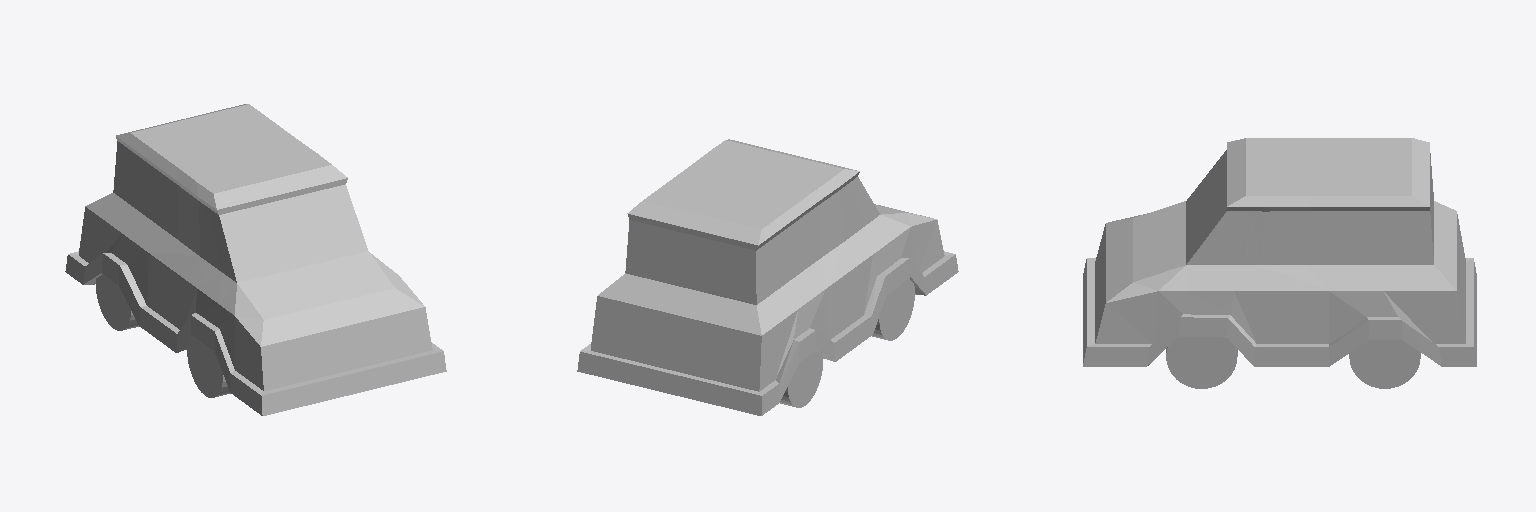
File: carkel.obj
The picture shows the model from 3 angles: view 1: azimuth 30°, elevation 25°; view 2: azimuth 150°, elevation 25°; view 3: azimuth 270°, elevation 25°; orthographic projection.
Parts seen in each view (by area): view 1: Chasis; view 2: Chasis; view 3: Chasis.
Part boxes in pixels (bbox=[...]): Chasis: bbox=[65, 104, 446, 415]; Chasis: bbox=[577, 139, 958, 415]; Chasis: bbox=[1083, 138, 1476, 388].
Size of the model in its own units: 2.77 by 2.53 by 5.08.